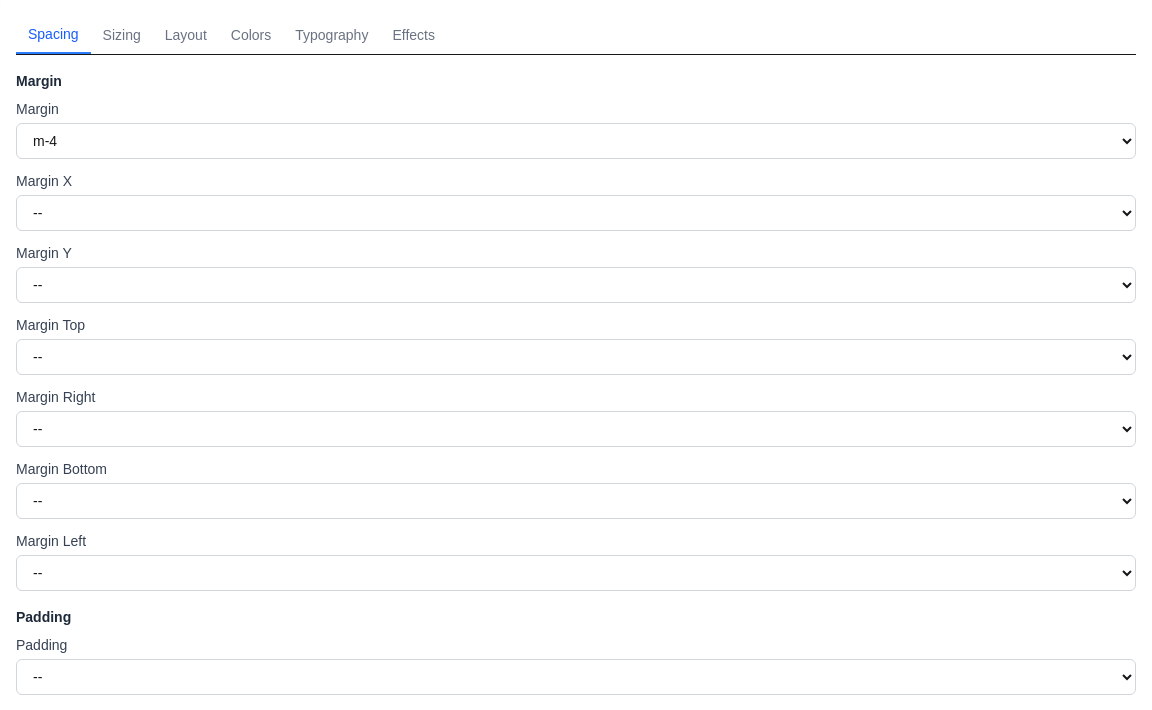
Test case: TailwindClassEditor › parsing existing classes › sets background color from existing classes
Click the tab "Colors": coordinates (251, 35) [219,16,283,54]
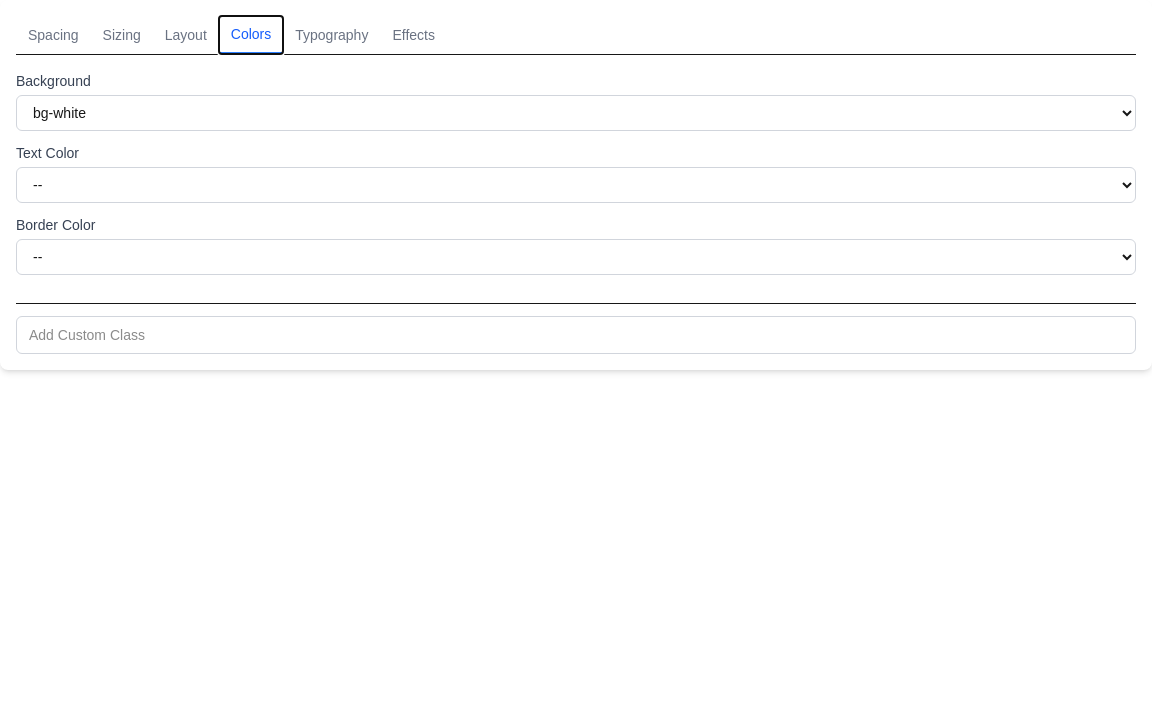
Expected: the dropdown labelled "Background" shows "bg-white", [16,95,1136,131]
